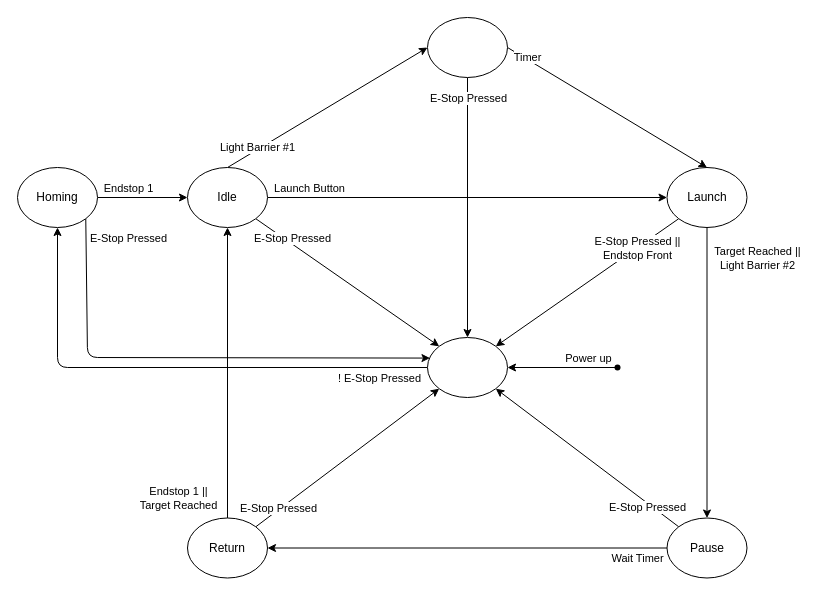
This 818x596 diagram has some shape labels left out. Each missing label, with the box of its shape:
E-Stop: (426, 336, 508, 398)
Launch delay: (426, 16, 508, 78)
